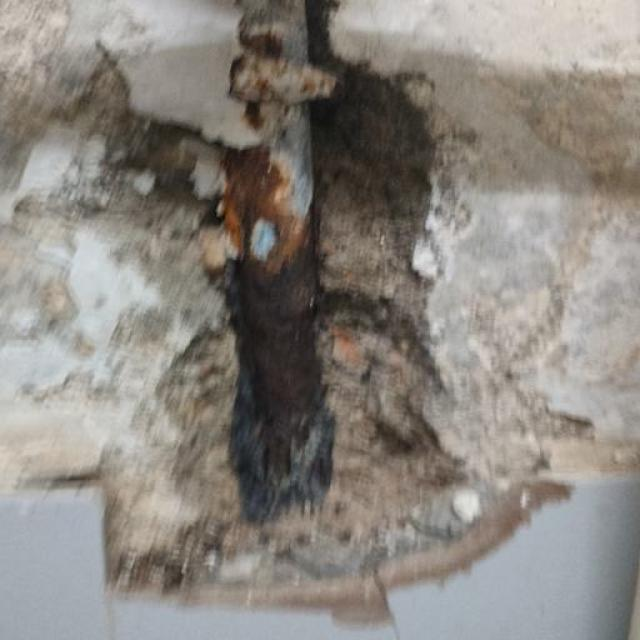spalling: (99, 10, 462, 591)
